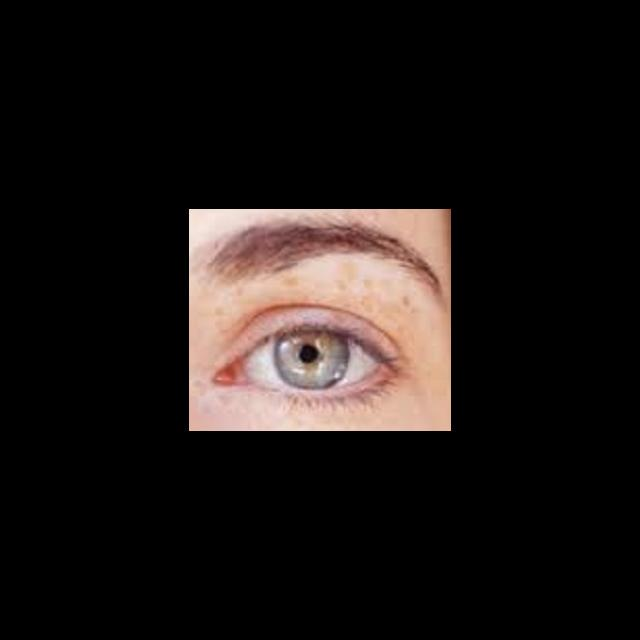eye: (245, 330, 380, 391)
iris: (275, 331, 349, 389)
